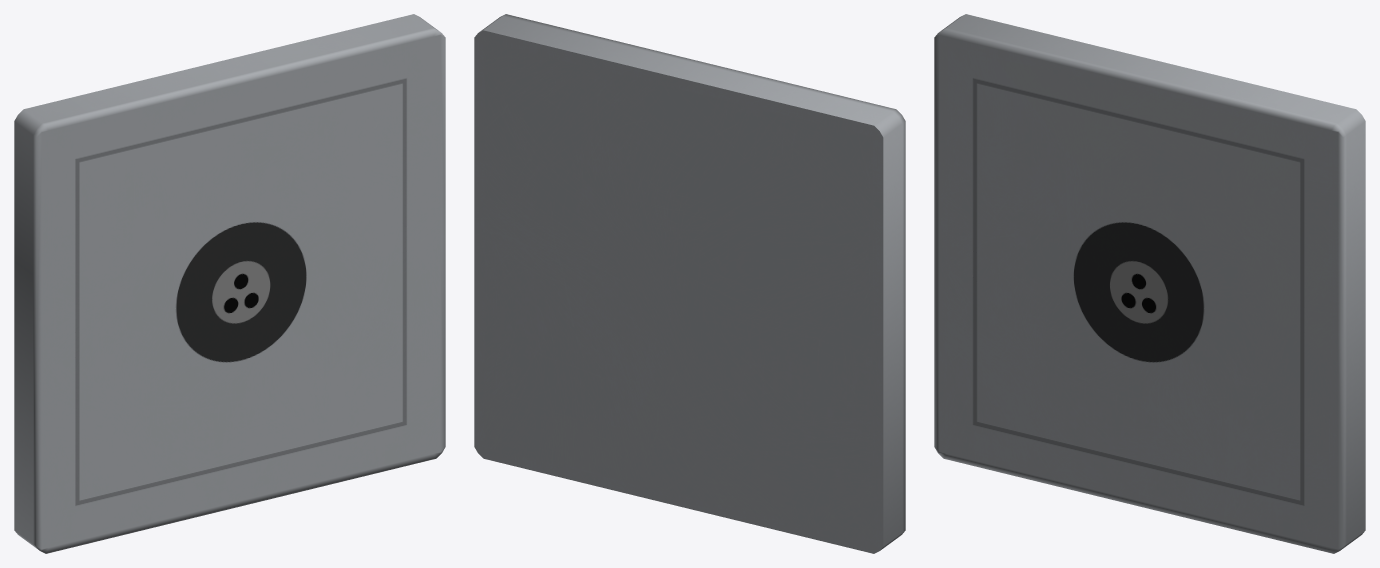
Rendered from WallSocket-HighPoly.obj.
3 views of the same model, side by side, from view 1: azimuth 30°, elevation 25°; view 2: azimuth 150°, elevation 25°; view 3: azimuth 330°, elevation 25° (orthographic).
Visible parts, largest first — view 1: WallSocket-HighPoly; view 2: WallSocket-HighPoly; view 3: WallSocket-HighPoly.
Part boxes in pixels (box(x1,y1,x2,y2)): WallSocket-HighPoly: box(14, 14, 445, 553); WallSocket-HighPoly: box(474, 14, 905, 553); WallSocket-HighPoly: box(934, 14, 1365, 553).
Size of the model in its own units: 0.5283 by 0.5283 by 0.05.
